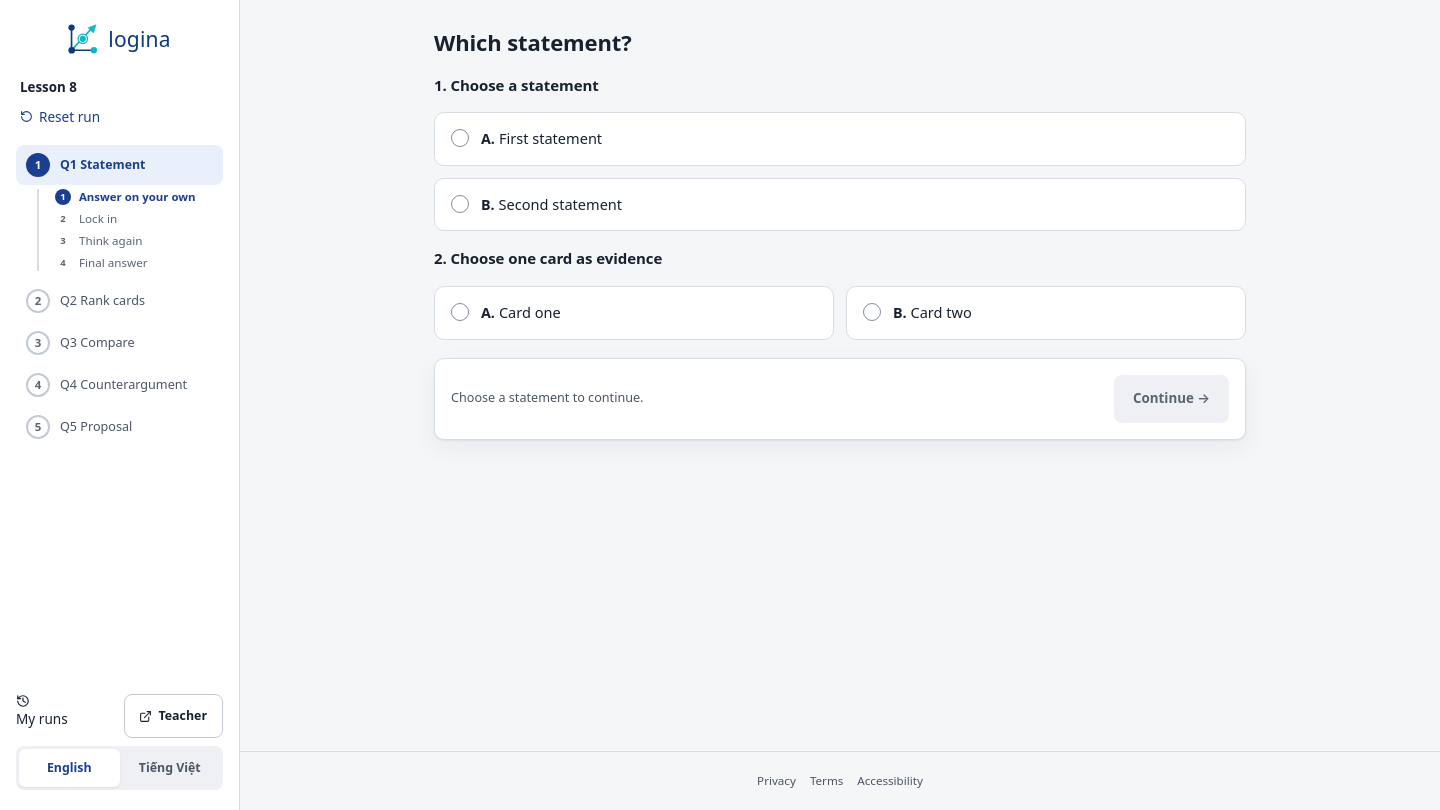
Scenario: Q1 flow › the student sees when a draft is saved and when it is not
The image size is (1440, 810).
Expected: the button "Continue →" is shown, [1114,375,1229,423]
Click the radio button labelled "A.First statement": [551, 138] box [434,112,1246,166]
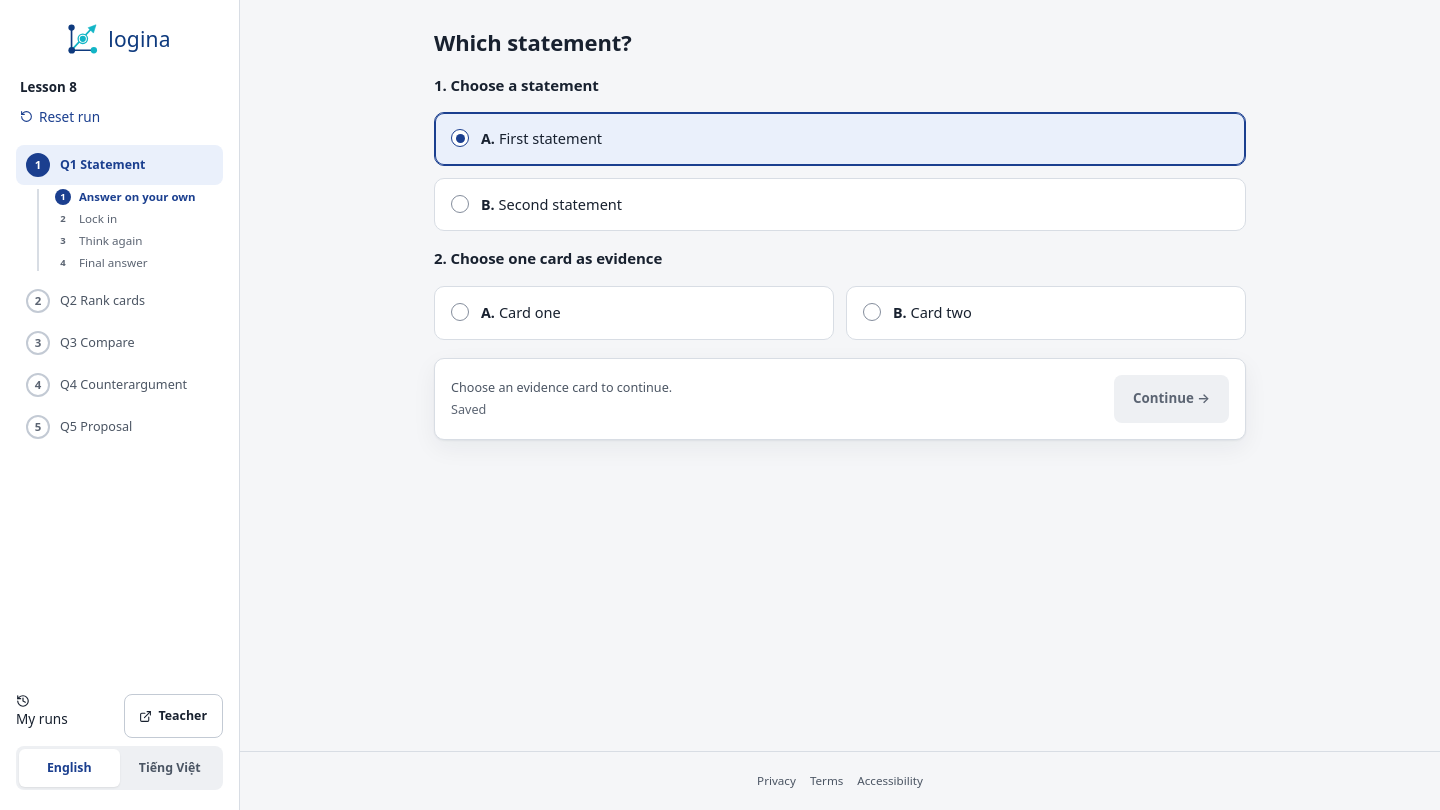
Expected: the text "Saved" is shown, [451,401,486,418]
Click the radio button labelled "B.Second statement": [560, 204] box [434,178,1246,231]
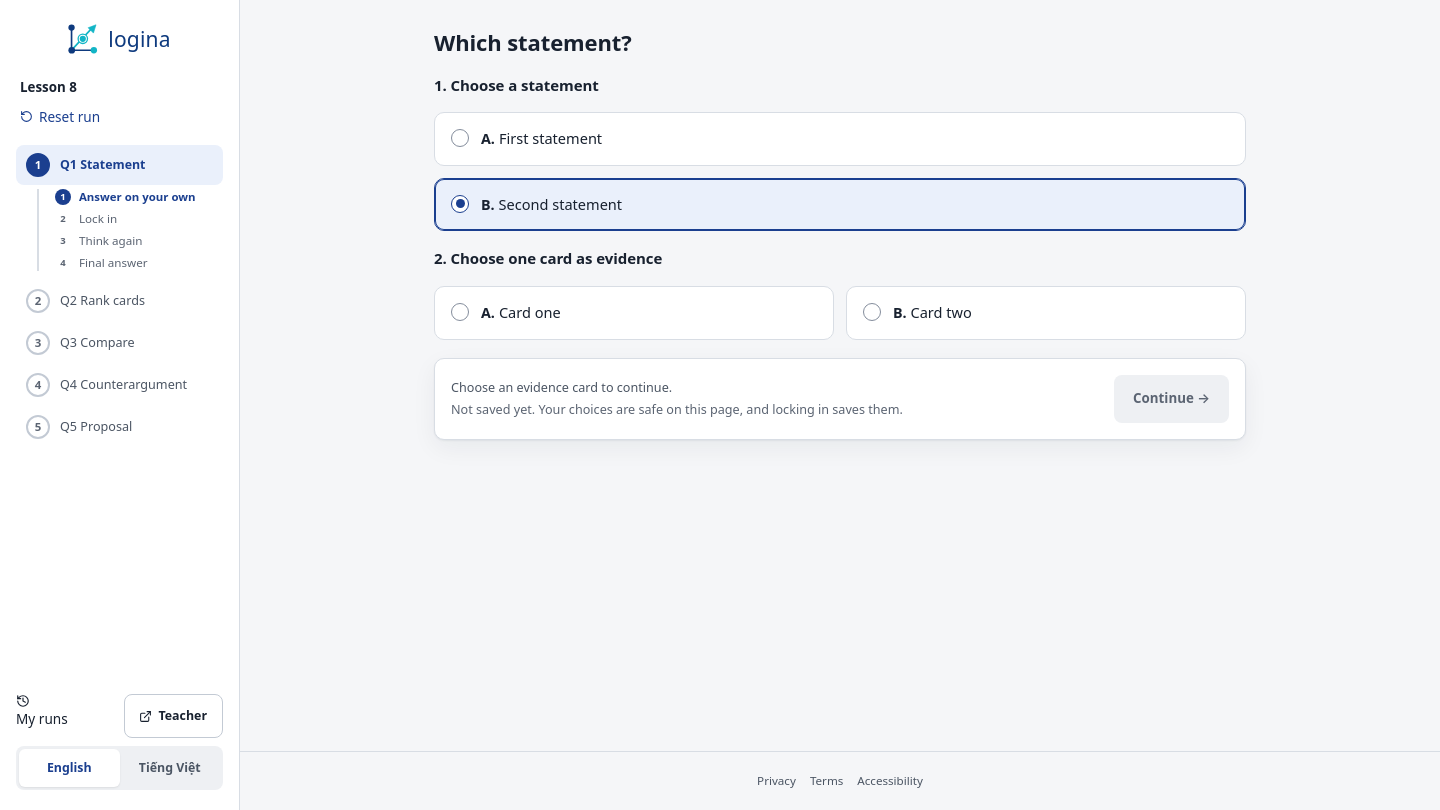
Expected: the text "Not saved yet. Your choices are safe on this page, and locking in saves them." is shown, [451,401,903,418]
